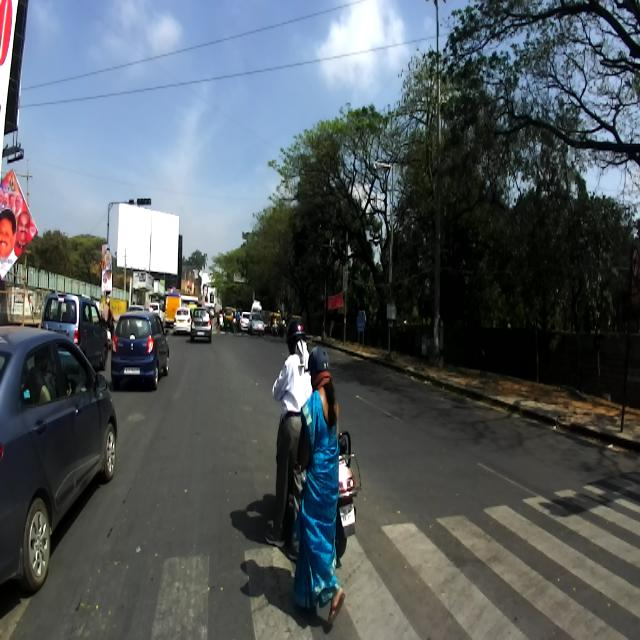car ahead at: (0, 329, 118, 591), (106, 303, 174, 403)
motorcycle ahead at: (355, 459, 638, 635)
person ahead at: (288, 352, 348, 636)
